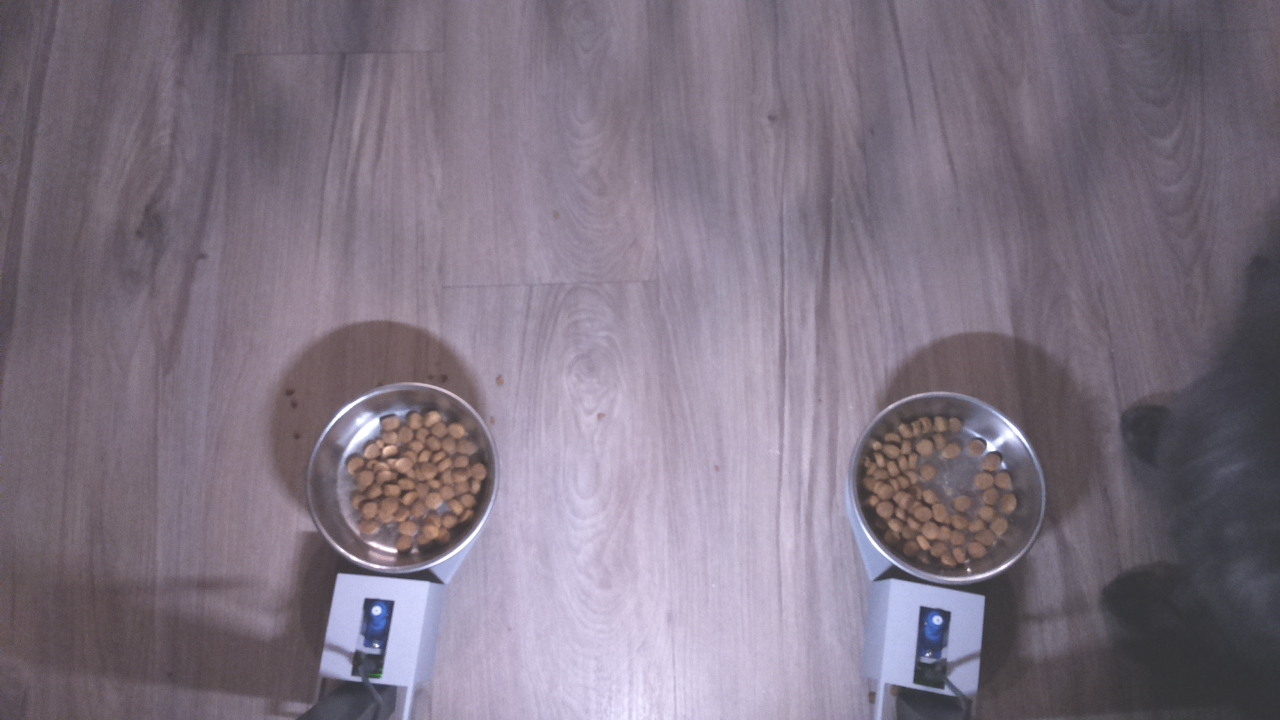open_bowl: (300, 377, 509, 584), (845, 384, 1051, 584)
